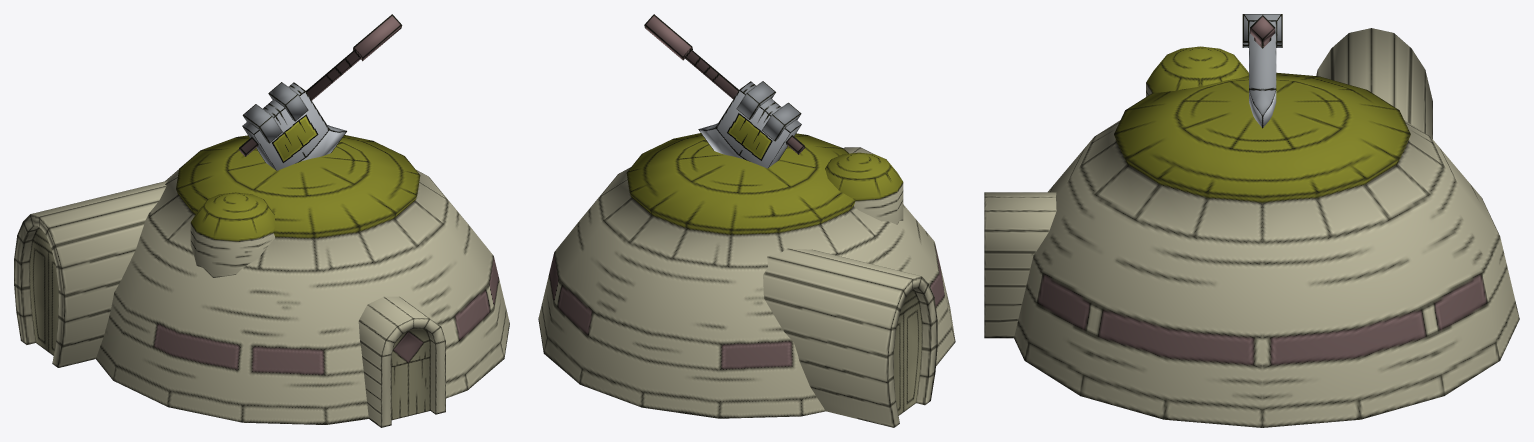
File: jianzhu_7_1.FBX
3 views of the same model, side by side, from view 1: azimuth 30°, elevation 25°; view 2: azimuth 150°, elevation 25°; view 3: azimuth 270°, elevation 25° (orthographic). The views are drawn at different scales.
Visible parts, largest first — view 1: default013; view 2: default013; view 3: default013.
Part boxes in pixels (left/top/right/bottom): default013: left=14, top=14, right=509, bottom=427; default013: left=538, top=14, right=955, bottom=427; default013: left=984, top=14, right=1519, bottom=427.
Bounding box in the file's own units: 375 × 268 × 362.
